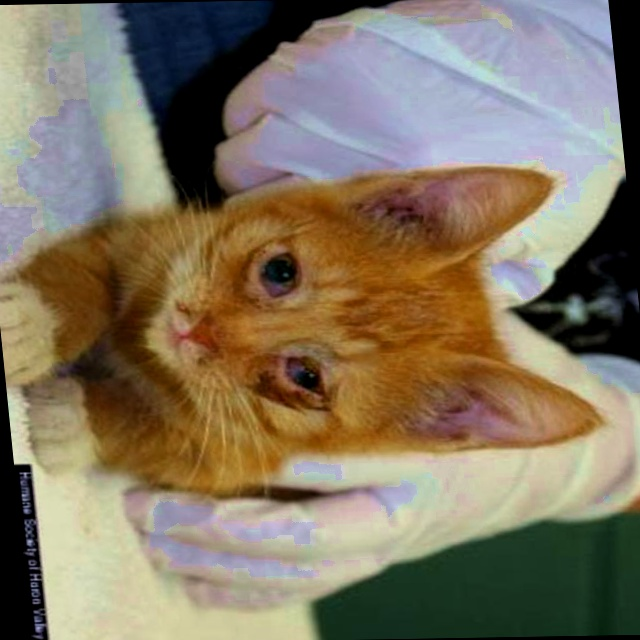eye_infection: (253, 249, 306, 306), (278, 356, 325, 413)
